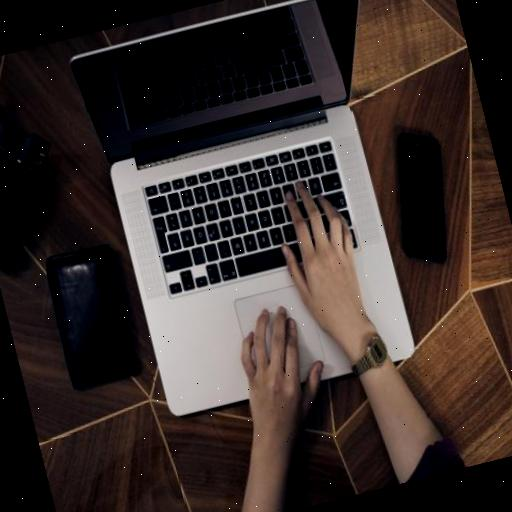phone: (368, 136, 473, 284)
